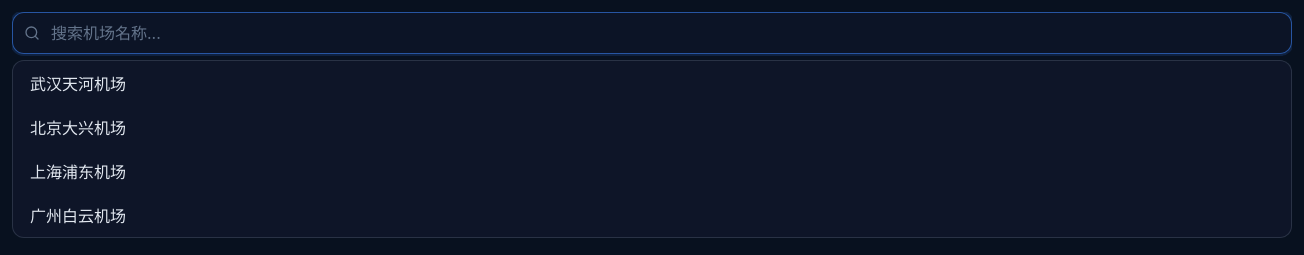
Test: AirportSearchSelect › shows "无匹配机场" when no airports match
Type "不存在" into the field with class "airport-search-select__input" at x=652, y=33, box [12, 12, 1292, 54]
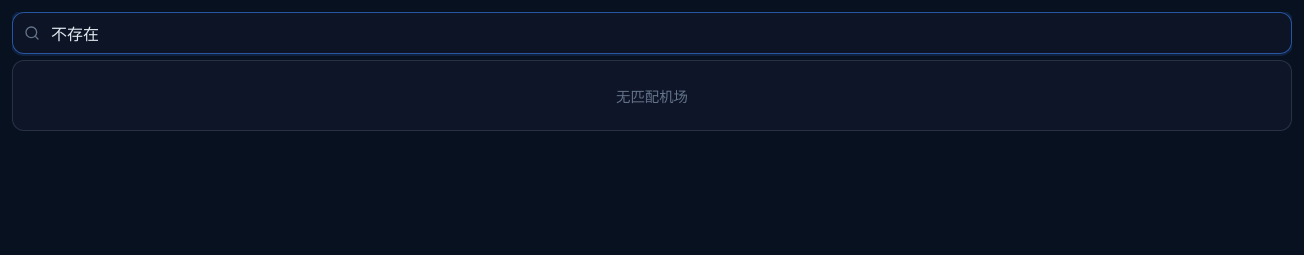
Expected: no options with class "airport-search-select__option" are shown
Expected: the text with class "airport-search-select__empty" reads "无匹配机场", [616, 88, 688, 105]
